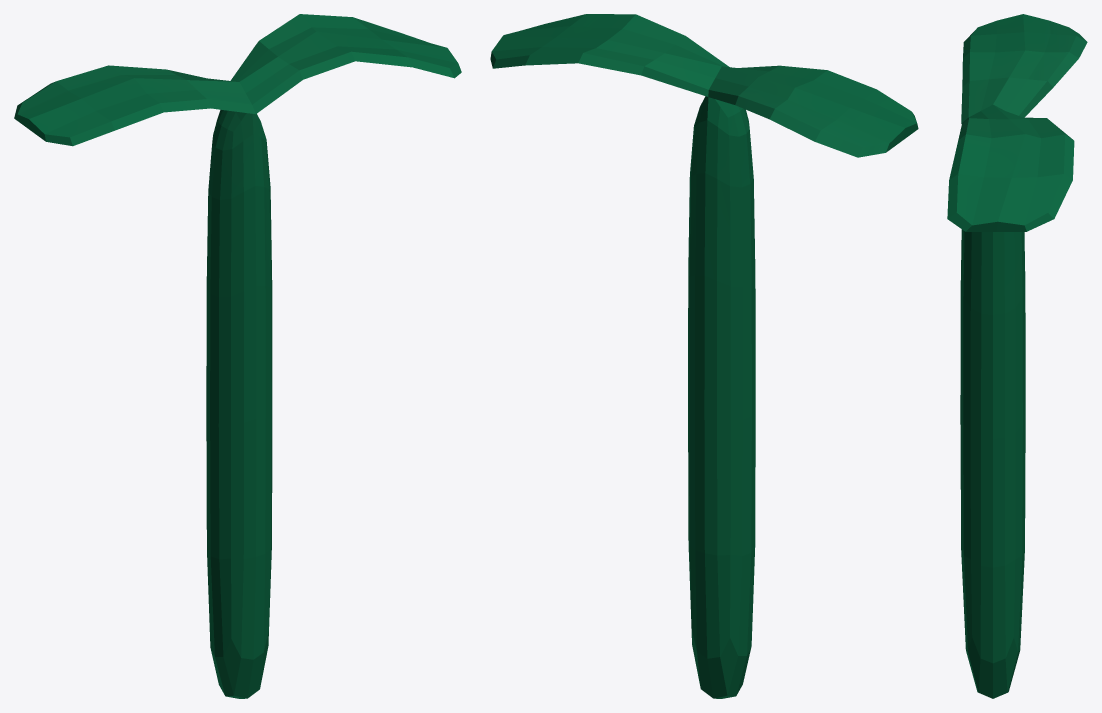
The model's file is SM_Crop_Sunflower_Stage_Seed.fbx.
3 views of the same model, side by side, from view 1: azimuth 30°, elevation 25°; view 2: azimuth 150°, elevation 25°; view 3: azimuth 270°, elevation 25° (orthographic). The views are drawn at different scales.
Parts seen in each view (by area): view 1: SM_Crop_Sunflower_ST1; view 2: SM_Crop_Sunflower_ST1; view 3: SM_Crop_Sunflower_ST1.
Boxes of the visible parts, x1,y1,x2,y2 form: SM_Crop_Sunflower_ST1: (14,14,461,698); SM_Crop_Sunflower_ST1: (490,14,918,698); SM_Crop_Sunflower_ST1: (947,14,1087,698).
Size of the model in its own units: 54.69 by 81.67 by 17.03.
1 material, 1 textured.
